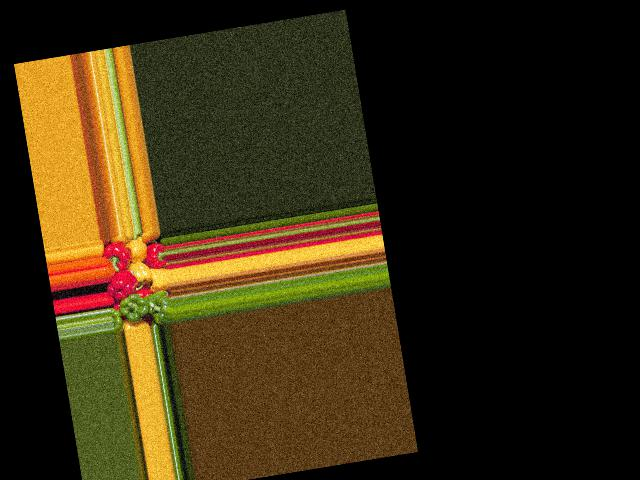bell_pepper: (108, 305, 127, 333)
